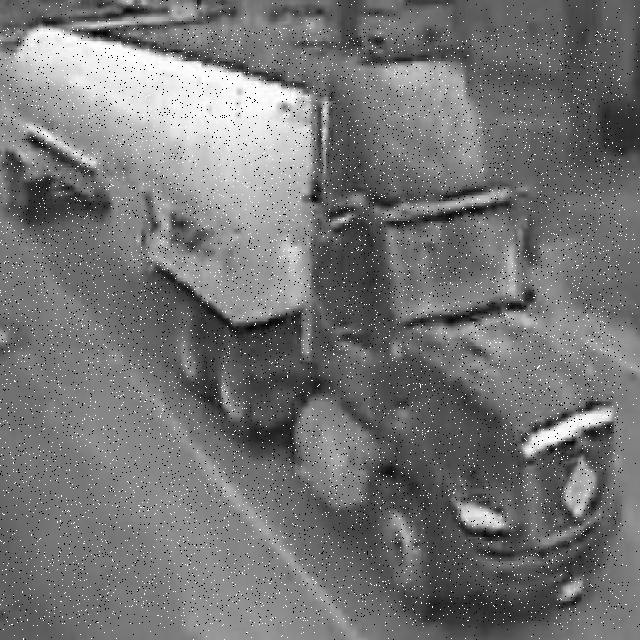Tractor Trailer: (0, 28, 623, 626)
